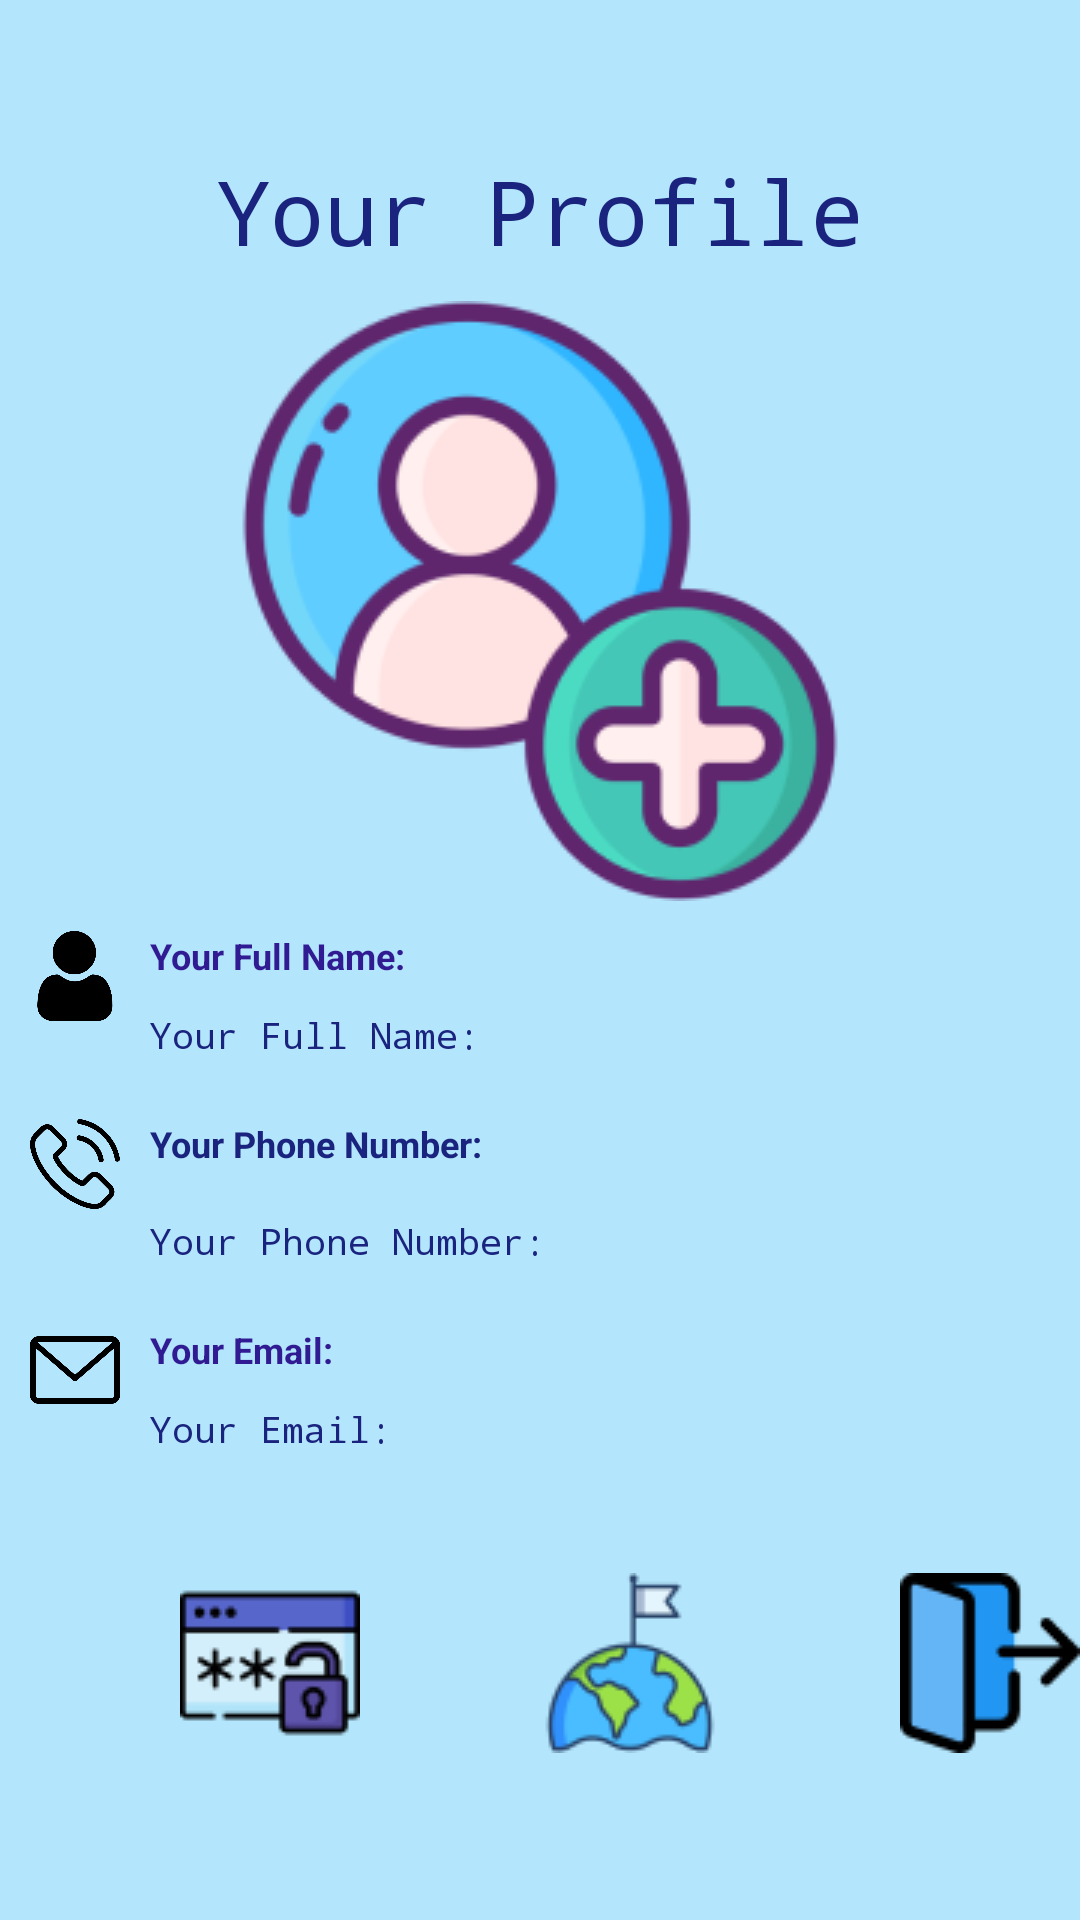

Icon click points for this 1080px×1920px phone screenshot, format (x=x, y=y):
celular: (x=75, y=1164)
earth: (x=630, y=1663)
out: (x=990, y=1663)
